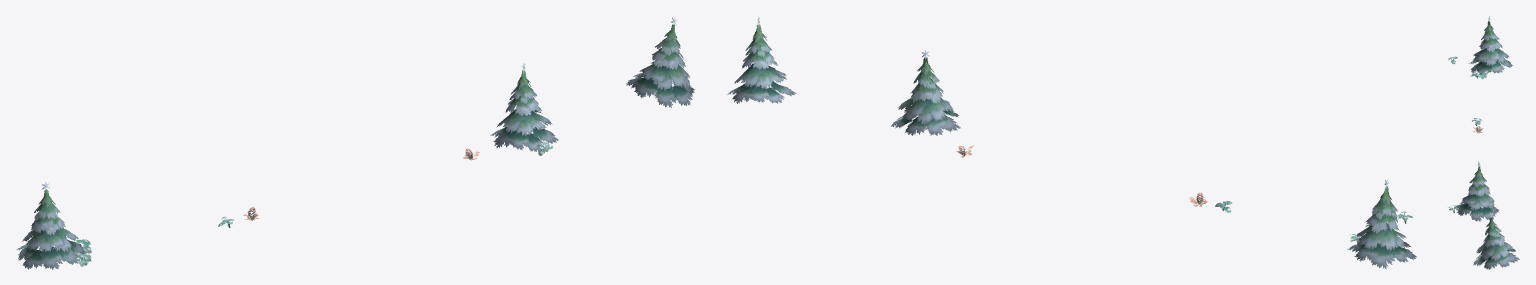
Rendered from pref_sm_beach_bk_winter_pointmol_longplant_D_lv2.fbx.
3 views of the same model, side by side, from view 1: azimuth 30°, elevation 25°; view 2: azimuth 150°, elevation 25°; view 3: azimuth 270°, elevation 25° (orthographic). The views are drawn at different scales.
Visible parts, largest first — view 1: pref_sm_beach_bk_winter_pointmol_longplant_D_lv2; view 2: pref_sm_beach_bk_winter_pointmol_longplant_D_lv2; view 3: pref_sm_beach_bk_winter_pointmol_longplant_D_lv2.
Boxes of the visible parts, bbox=[...] form: pref_sm_beach_bk_winter_pointmol_longplant_D_lv2: bbox=[16, 17, 694, 269]; pref_sm_beach_bk_winter_pointmol_longplant_D_lv2: bbox=[727, 16, 1416, 268]; pref_sm_beach_bk_winter_pointmol_longplant_D_lv2: bbox=[1448, 16, 1519, 269].
Size of the model in its own units: 66.58 by 8.82 by 9.56.
